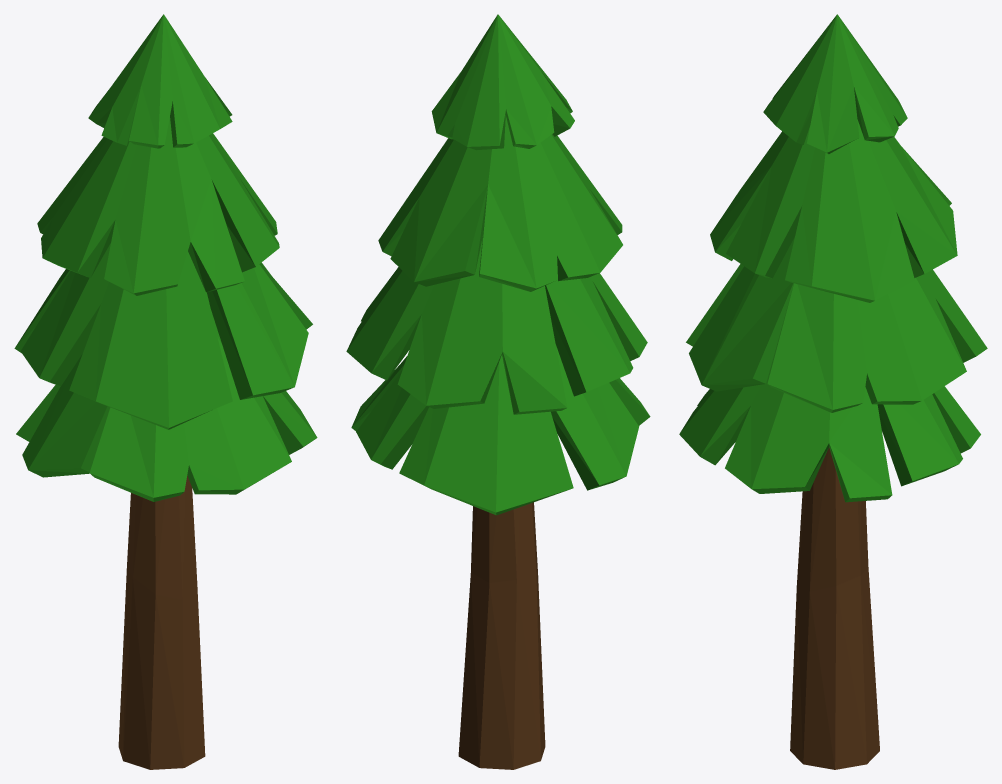
Rendered from tree.glb.
3 views of the same model, side by side, from view 1: azimuth 30°, elevation 25°; view 2: azimuth 150°, elevation 25°; view 3: azimuth 270°, elevation 25° (orthographic).
Parts seen in each view (by area): view 1: Low Poly Fir Tree; view 2: Low Poly Fir Tree; view 3: Low Poly Fir Tree.
Part boxes in pixels (x1=…): Low Poly Fir Tree: x1=14, y1=14, x2=317, y2=769; Low Poly Fir Tree: x1=346, y1=14, x2=650, y2=769; Low Poly Fir Tree: x1=679, y1=14, x2=987, y2=769.
Bounding box in the file's own units: 2.37 × 6.28 × 2.38.
